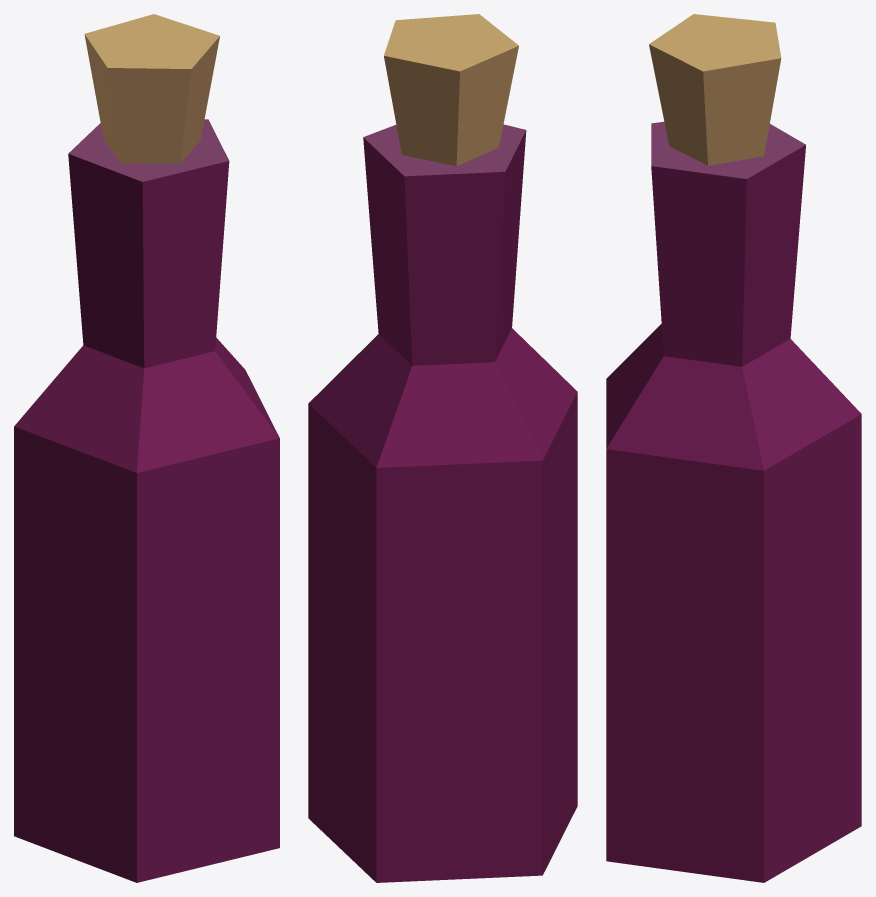
File: TB_Prop_Bottle_B.FBX
3 views of the same model, side by side, from view 1: azimuth 30°, elevation 25°; view 2: azimuth 150°, elevation 25°; view 3: azimuth 270°, elevation 25° (orthographic).
Visible parts, largest first — view 1: TB_Prop_Bottle_B; view 2: TB_Prop_Bottle_B; view 3: TB_Prop_Bottle_B.
Boxes of the visible parts, box(x1,y1,x2,y2) form: TB_Prop_Bottle_B: box(14, 14, 279, 882); TB_Prop_Bottle_B: box(308, 14, 577, 882); TB_Prop_Bottle_B: box(606, 14, 861, 882).
Bounding box in the file's own units: 0.2856 × 0.9197 × 0.2716.
